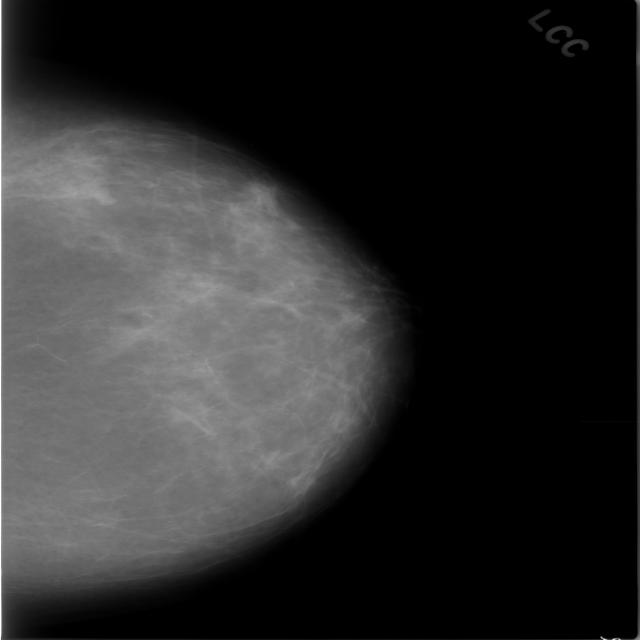normal: (0, 96, 392, 617)
